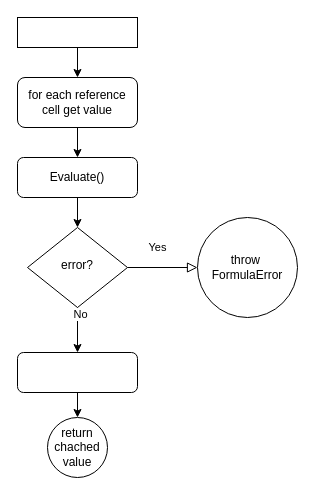
Some shapes in this 315 by 495 pixel diagram are drawn without their labels. The box of each missing label's shape, as (x1, y1, x2, y2) in pixels:
Formula calculation: (16, 16, 138, 48)
Save evaluated value to cache: (16, 352, 138, 392)
